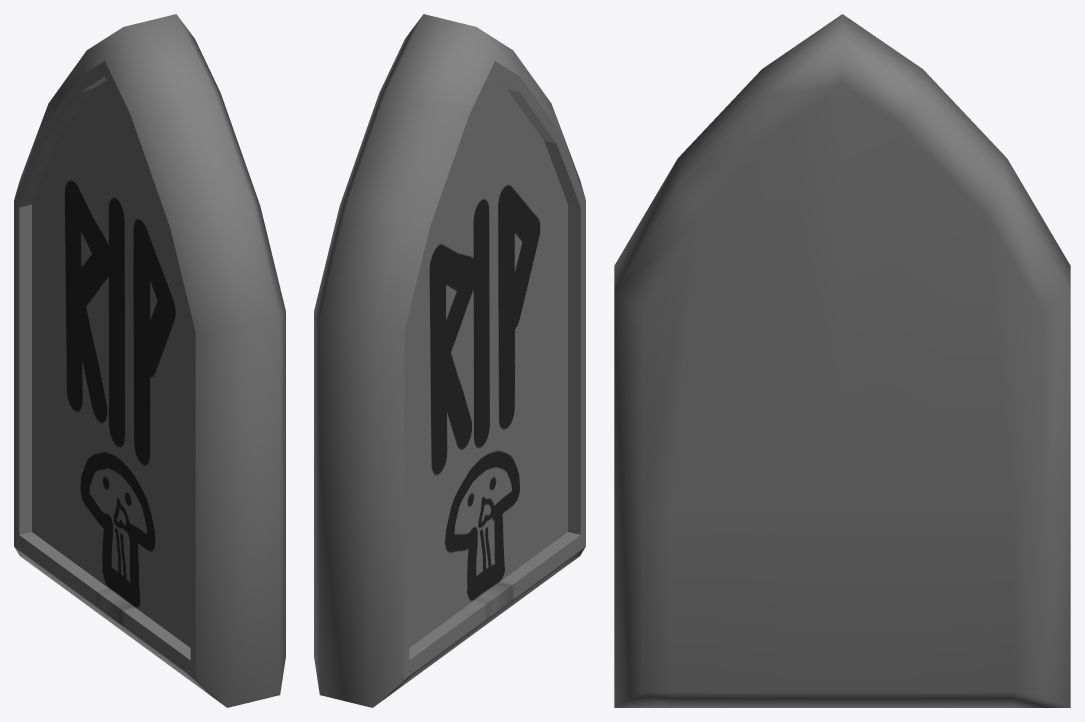
Rendered from Tombstone.fbx.
3 renders of one model, left to right at view 1: azimuth 30°, elevation 25°; view 2: azimuth 150°, elevation 25°; view 3: azimuth 270°, elevation 25°, orthographic. The views are drawn at different scales.
Visible parts, largest first — view 1: pCube1; view 2: pCube1; view 3: pCube1.
Boxes of the visible parts, <box> form: pCube1: <box>14,14,285,707</box>; pCube1: <box>314,14,585,707</box>; pCube1: <box>614,14,1070,707</box>.
Bounding box in the file's own units: 1 × 6.44 × 4.
